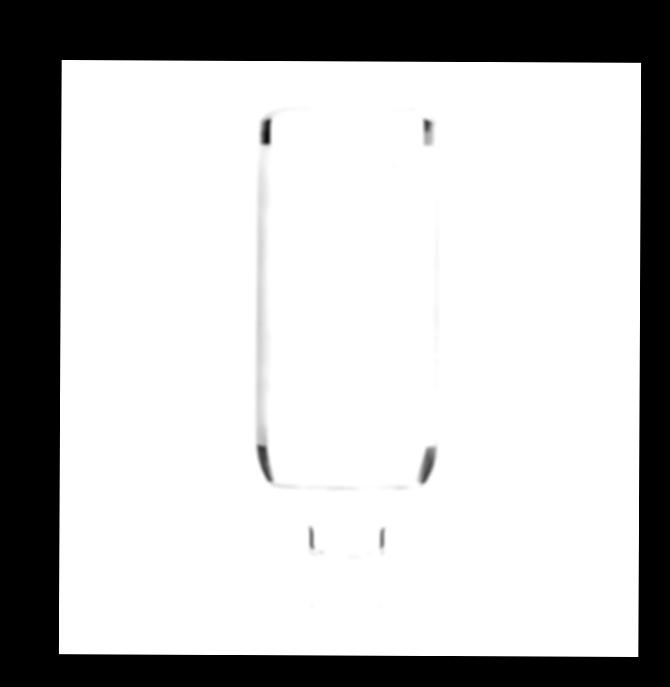cosmetic: (257, 111, 441, 622)
